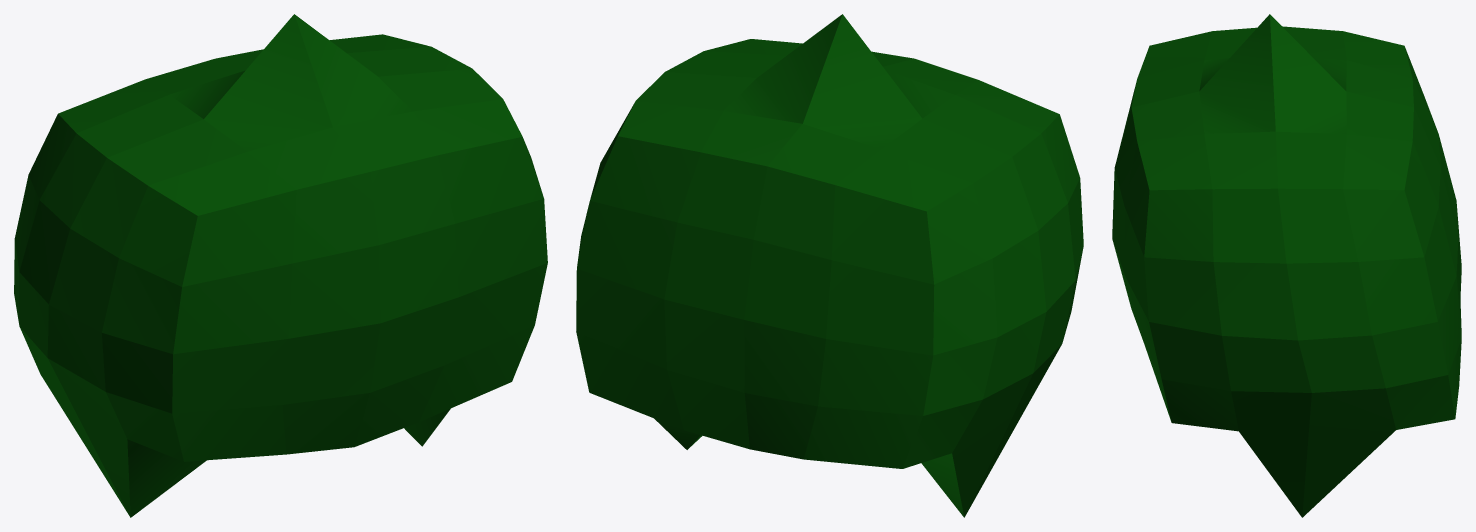
File: torso_lower.obj
3 renders of one model, left to right at view 1: azimuth 30°, elevation 25°; view 2: azimuth 150°, elevation 25°; view 3: azimuth 270°, elevation 25°, orthographic. The views are drawn at different scales.
Visible parts, largest first — view 1: torso_lower; view 2: torso_lower; view 3: torso_lower.
Boxes of the visible parts, x1,y1,x2,y2 form: torso_lower: (14,14,547,517); torso_lower: (576,14,1083,517); torso_lower: (1112,14,1461,517).
Size of the model in its own units: 2.06 by 2.06 by 1.49.
